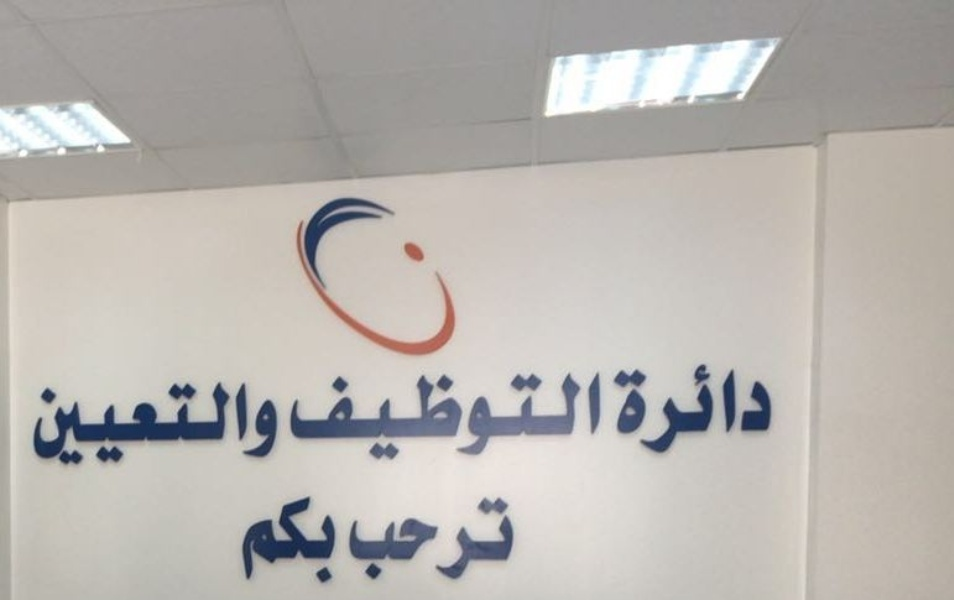text: (321, 493, 337, 583), (625, 362, 640, 455), (641, 362, 656, 455), (657, 362, 672, 455), (673, 362, 688, 455), (689, 362, 704, 455), (705, 362, 720, 455), (721, 362, 736, 455), (737, 362, 752, 455), (753, 362, 768, 455), (289, 368, 304, 461), (305, 368, 320, 461), (321, 368, 336, 461), (337, 368, 352, 461), (353, 368, 368, 461), (369, 368, 384, 461), (385, 368, 400, 461), (401, 368, 416, 461), (417, 368, 432, 461), (433, 368, 448, 461), (449, 368, 464, 461), (465, 368, 480, 461), (481, 368, 496, 461), (497, 368, 512, 461), (513, 368, 528, 461), (529, 368, 544, 461), (545, 368, 560, 461), (561, 368, 576, 461), (577, 368, 592, 461), (241, 493, 256, 583), (257, 493, 272, 583), (273, 493, 288, 583), (289, 493, 304, 583), (305, 493, 320, 583), (49, 379, 64, 468), (65, 379, 80, 468), (81, 379, 96, 468), (97, 379, 112, 468), (113, 379, 128, 468), (129, 379, 144, 468), (145, 379, 160, 468), (161, 379, 176, 468), (177, 379, 192, 468), (193, 379, 208, 468), (209, 379, 224, 468), (225, 379, 240, 468), (241, 379, 256, 468), (257, 379, 272, 468), (353, 497, 368, 581), (369, 497, 384, 581), (385, 497, 400, 581), (401, 497, 416, 581), (417, 497, 432, 581), (433, 497, 448, 581), (449, 497, 464, 581), (465, 497, 480, 581), (481, 497, 496, 581), (497, 497, 512, 581), (34, 379, 48, 468), (612, 362, 624, 455), (340, 497, 352, 581), (593, 368, 603, 461), (513, 497, 524, 581), (273, 379, 281, 468), (769, 362, 776, 455), (238, 493, 240, 583)
